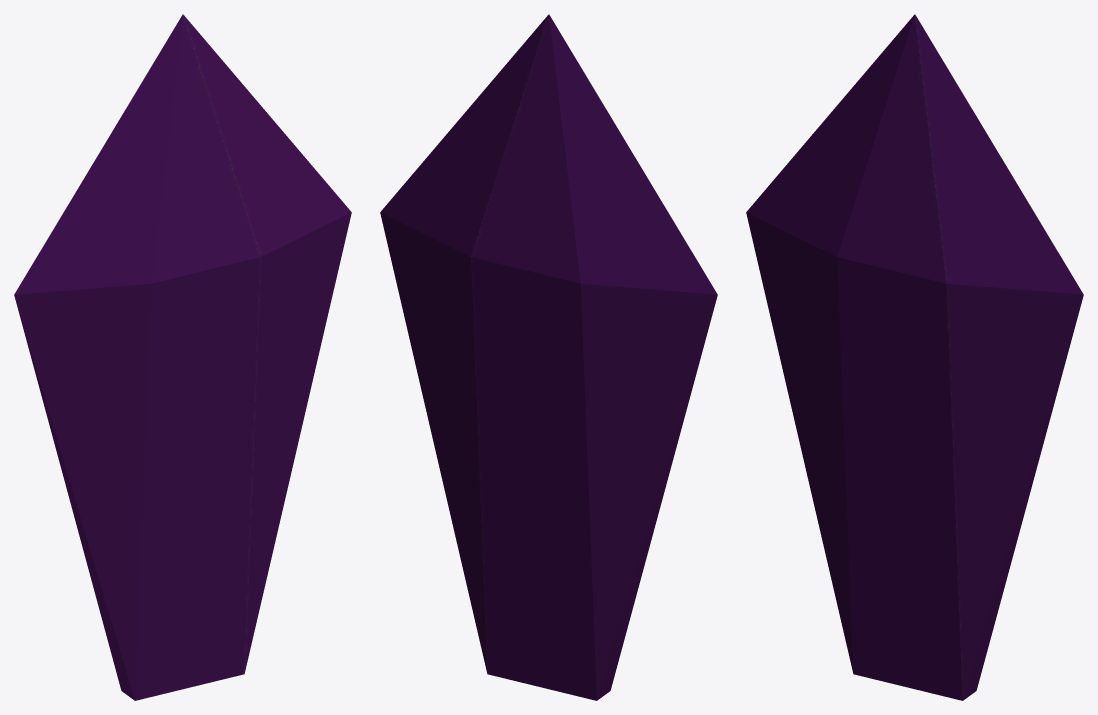
File: RobotBufferTopCrystal.fbx
3 views of the same model, side by side, from view 1: azimuth 30°, elevation 25°; view 2: azimuth 150°, elevation 25°; view 3: azimuth 330°, elevation 25° (orthographic).
Visible parts, largest first — view 1: Plane.001; view 2: Plane.001; view 3: Plane.001.
Part boxes in pixels (bbox=[...]): Plane.001: bbox=[14, 14, 351, 700]; Plane.001: bbox=[380, 14, 717, 700]; Plane.001: bbox=[746, 14, 1083, 700].
Size of the model in its own units: 50.31 by 95.17 by 11.87.
